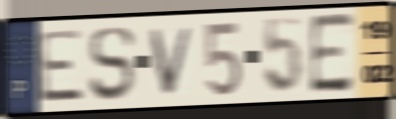5: (259, 14, 305, 97), (202, 18, 244, 99)
E: (308, 10, 357, 98), (36, 27, 87, 106)
S: (86, 23, 137, 104)
V: (147, 23, 198, 98)
